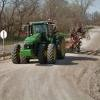Tractor: (9, 13, 87, 70)
